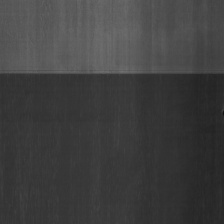welding_line: (0, 69, 224, 81), (222, 108, 224, 117)
